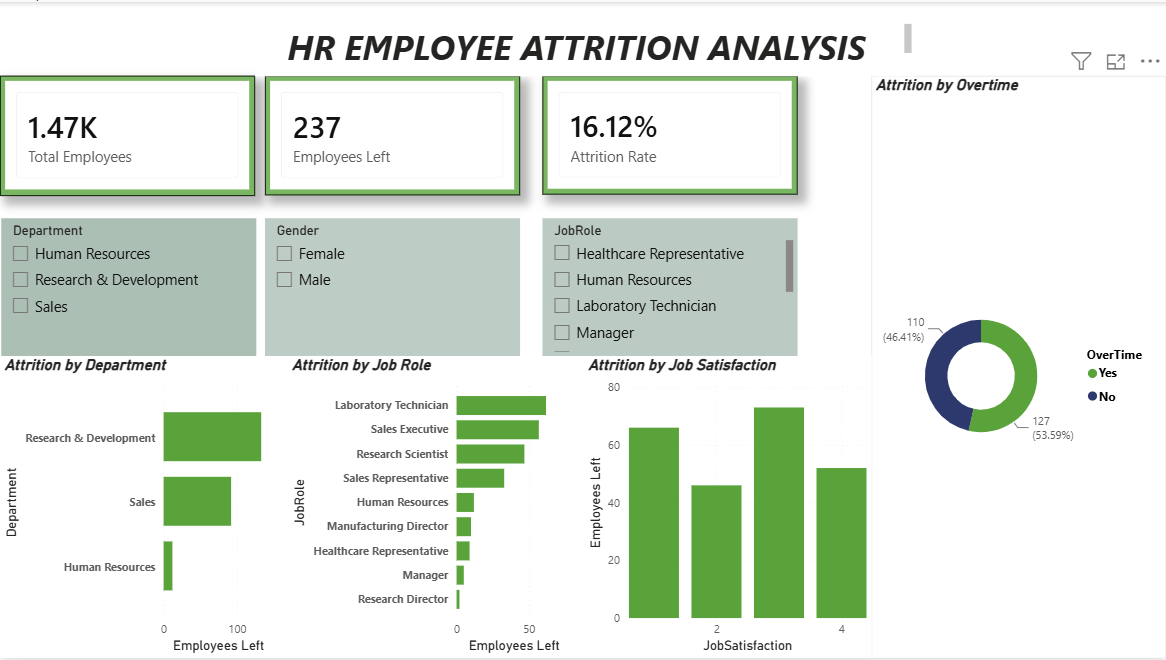

What the dashboard file says about the page in this screenshot:
{"tool":"powerbi","page":{"name":"HR EMPLOYEE ATTRITION","canvas":[1280,720],"ordinal":0},"visuals":[{"type":"cardVisual","fields":{"Data":["CountNonNull(HR-Employee-Attrition (1).EmployeeNumber)"]},"box":[0,81.5,280.1,131.9],"z":0},{"type":"cardVisual","fields":{"Data":["HR-Employee-Attrition (1).Employees Left","HR-Employee-Attrition (1).Employees Left"]},"box":[290.4,81.5,280.1,131],"z":1000},{"type":"cardVisual","fields":{"Data":["HR-Employee-Attrition (1).Attrition Rate"]},"box":[595.7,81.5,280.1,130.4],"z":2000},{"type":"clusteredBarChart","title":"Attrition by Department","fields":{"Category":["HR-Employee-Attrition (1).Department"],"Y":["HR-Employee-Attrition (1).Employees Left"]},"box":[0,388.2,315.6,331.9],"z":2001},{"type":"donutChart","title":"Attrition by Overtime","fields":{"Category":["HR-Employee-Attrition (1).OverTime"],"Y":["HR-Employee-Attrition (1).Employees Left"]},"box":[955.8,81.5,324.5,638.7],"z":2002},{"type":"clusteredBarChart","title":"Attrition by Job Role","fields":{"Category":["HR-Employee-Attrition (1).JobRole"],"Y":["HR-Employee-Attrition (1).Employees Left"]},"box":[315.6,388.2,324.5,331.9],"z":2003},{"type":"clusteredColumnChart","title":"Attrition by Job Satisfaction","fields":{"Category":["HR-Employee-Attrition (1).JobSatisfaction"],"Y":["HR-Employee-Attrition (1).Employees Left"]},"box":[640.2,388.2,315.6,331.9],"z":2004},{"type":"slicer","fields":{"Values":["HR-Employee-Attrition (1).Department"]},"box":[1.5,237.1,280.1,151.1],"z":2005},{"type":"slicer","fields":{"Values":["HR-Employee-Attrition (1).Gender"]},"box":[290.4,237.1,280.1,151.1],"z":2006},{"type":"slicer","fields":{"Values":["HR-Employee-Attrition (1).JobRole"]},"box":[595.7,237.1,280.1,151.1],"z":2007},{"type":"textbox","box":[280.1,19.3,726.1,62.2],"z":2008}]}

Visuals, with their boxes in screenshot pixels (x1, y1, x2, y2), scaled from the page's 1280x720 canvas onto the 1166x660 screenshot:
cardVisual - CountNonNull(HR-Employee-Attrition (1).EmployeeNumber): left=0, top=75, right=255, bottom=196
cardVisual - HR-Employee-Attrition (1).Employees Left x HR-Employee-Attrition (1).Employees Left: left=265, top=75, right=520, bottom=195
cardVisual - HR-Employee-Attrition (1).Attrition Rate: left=543, top=75, right=798, bottom=194
"Attrition by Department" clusteredBarChart: left=0, top=356, right=287, bottom=659
"Attrition by Overtime" donutChart: left=871, top=75, right=1165, bottom=659
"Attrition by Job Role" clusteredBarChart: left=287, top=356, right=583, bottom=659
"Attrition by Job Satisfaction" clusteredColumnChart: left=583, top=356, right=871, bottom=659
slicer - HR-Employee-Attrition (1).Department: left=1, top=217, right=257, bottom=356
slicer - HR-Employee-Attrition (1).Gender: left=265, top=217, right=520, bottom=356
slicer - HR-Employee-Attrition (1).JobRole: left=543, top=217, right=798, bottom=356
textbox: left=255, top=18, right=917, bottom=75
